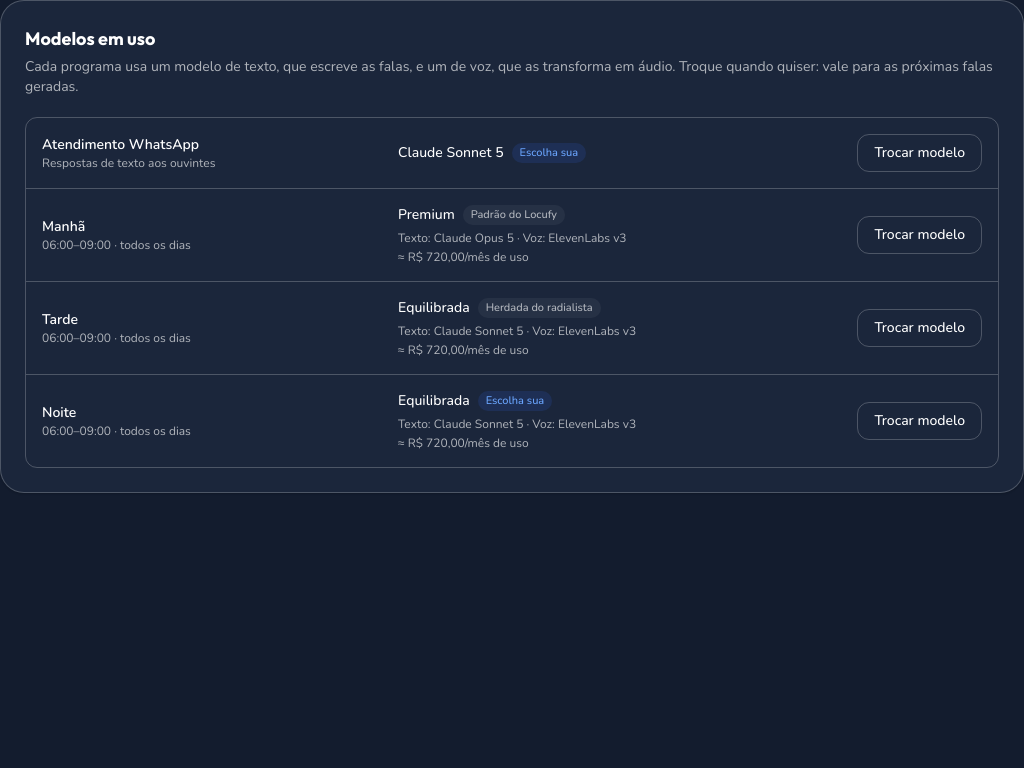
Test: troca a combinação de um programa pelo modal
Click the button with aria-label "Trocar modelo de Manhã" at point(920, 235), box [857,216,982,254]
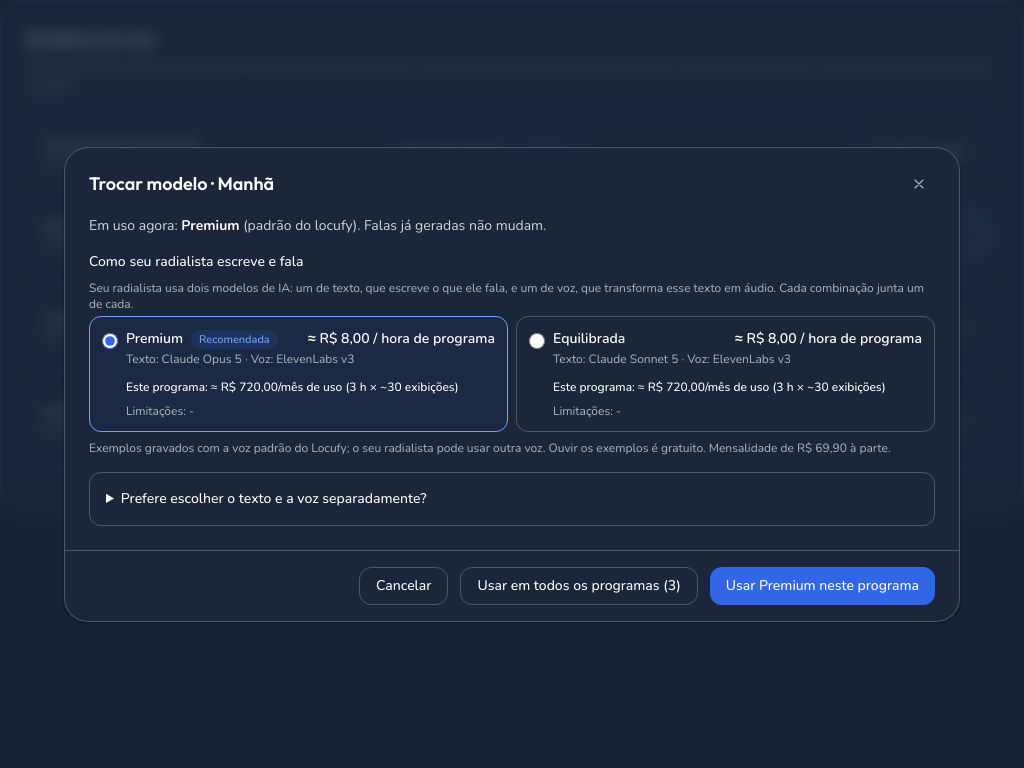
Click the radio button labelled "Equilibrada" at point(537, 340), box [529,332,545,348]
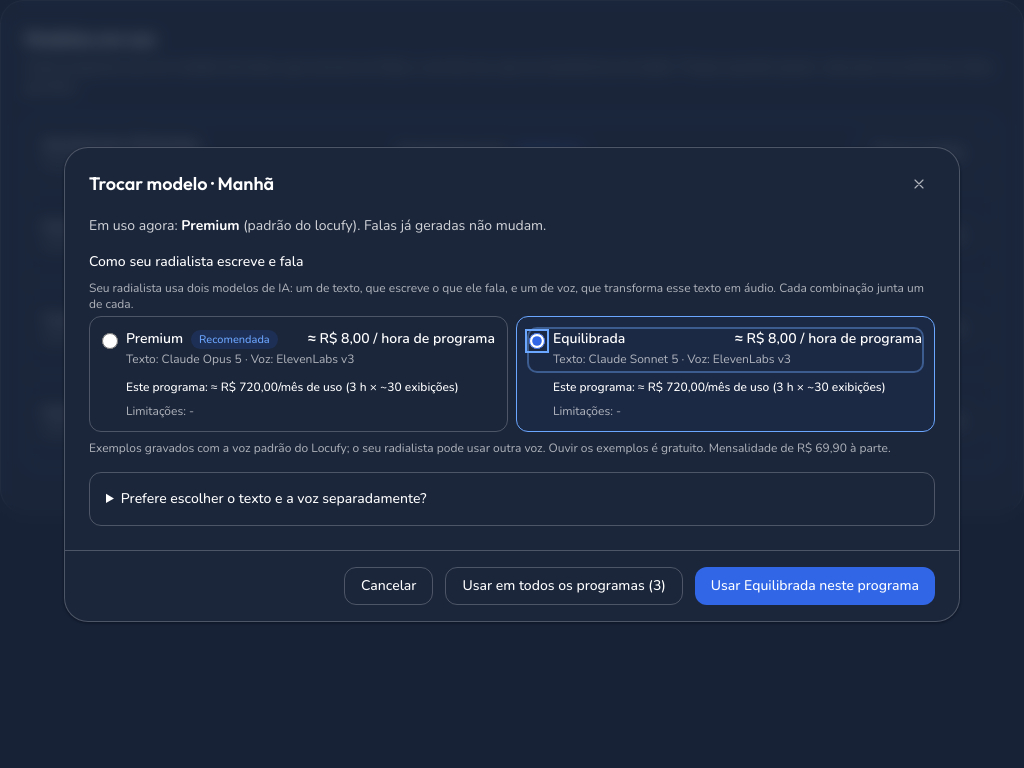
Click the button "Usar Equilibrada neste programa" at point(815, 586), box [695,566,935,604]
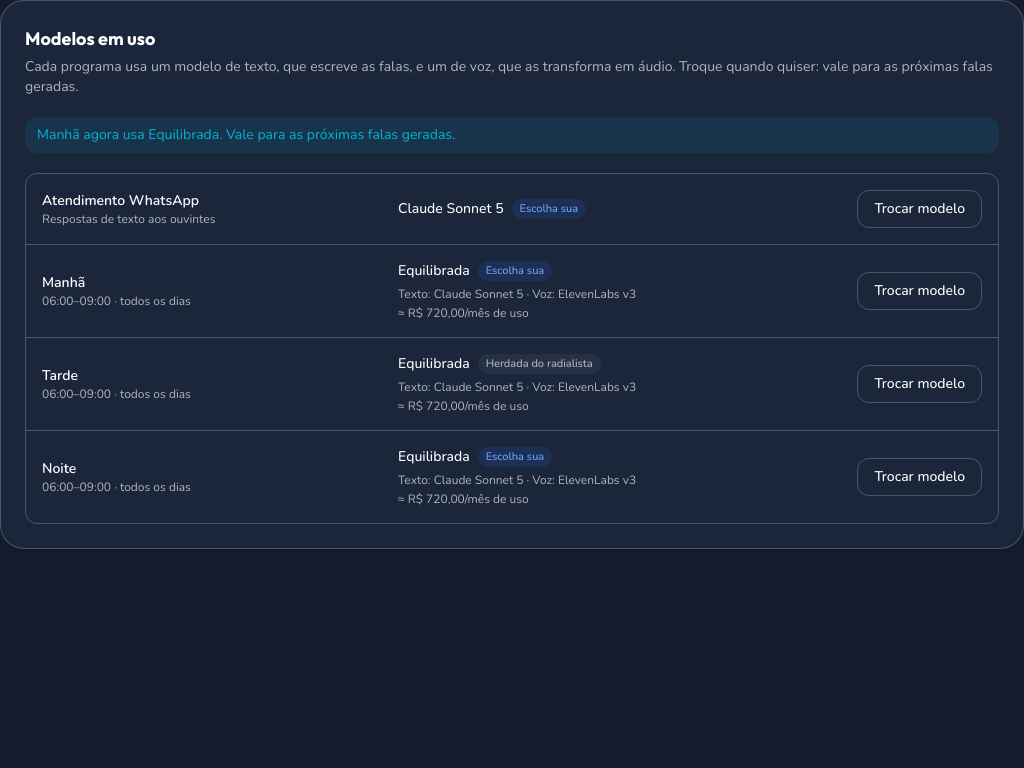
Result: the message shows "Manhã agora usa Equilibrada" at [37,125,455,144]
Result: the heading "Trocar modelo · Manhã" is gone
Result: the 2nd text "Escolha sua" is shown at [478,261,552,281]
